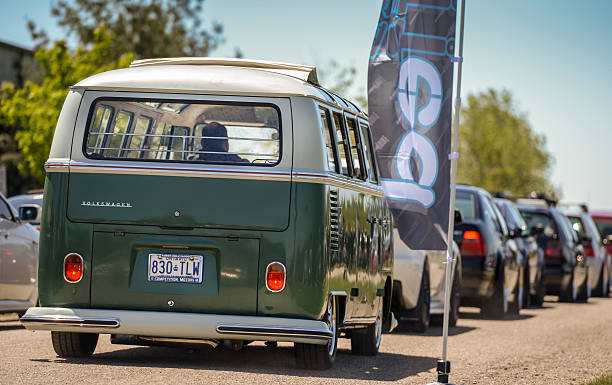licence: (144, 251, 203, 286)
